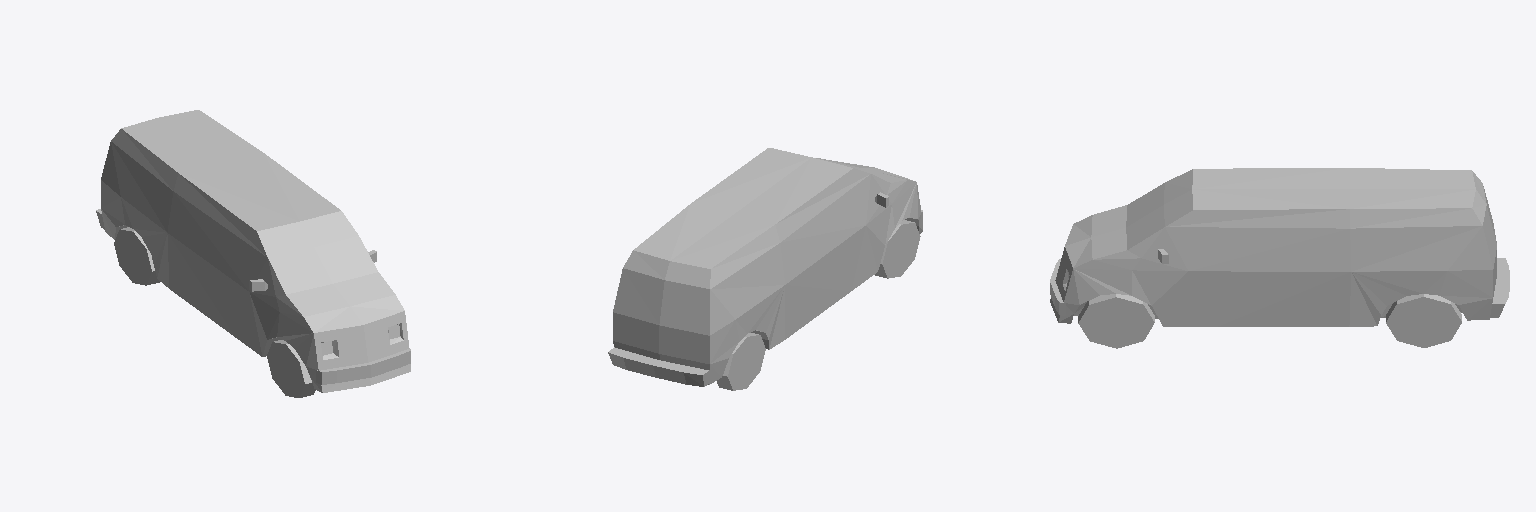
The model's file is Car4_o4.obj.
3 views of the same model, side by side, from view 1: azimuth 30°, elevation 25°; view 2: azimuth 150°, elevation 25°; view 3: azimuth 270°, elevation 25° (orthographic).
Visible parts, largest first — view 1: Car4; view 2: Car4; view 3: Car4.
Boxes of the visible parts, x1,y1,x2,y2 form: Car4: [96, 110, 410, 397]; Car4: [608, 148, 922, 390]; Car4: [1050, 168, 1509, 348].
Size of the model in its own units: 1.55 by 1.6 by 4.93.